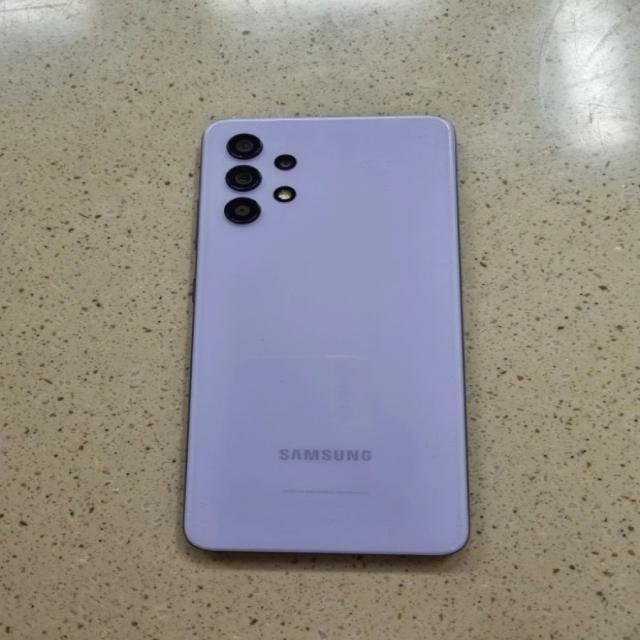phone: (180, 111, 470, 556)
